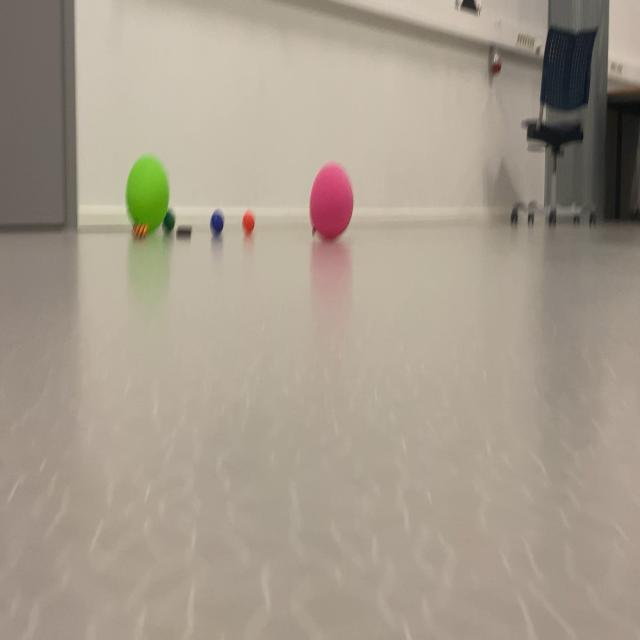7: (235, 208, 261, 247)
green ball: (209, 208, 227, 238)
red ball: (161, 205, 179, 235)
